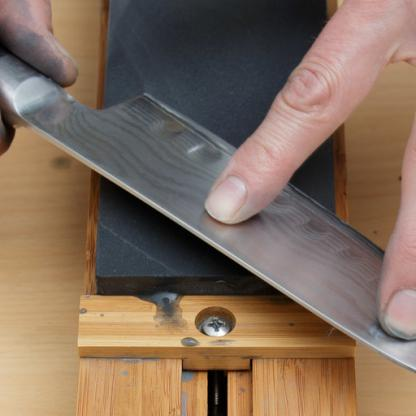knife: (0, 49, 415, 408)
